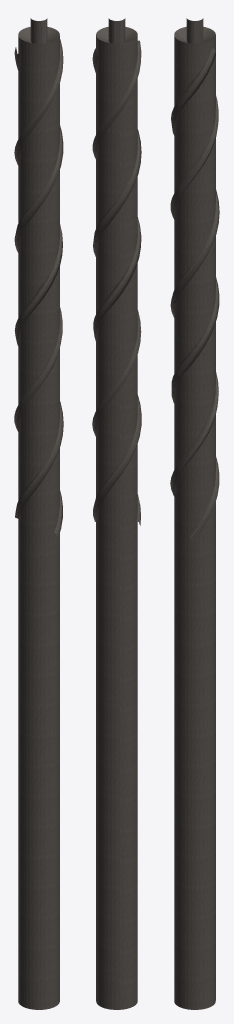
File: Piippu150.gltf
3 views of the same model, side by side, from view 1: azimuth 30°, elevation 25°; view 2: azimuth 210°, elevation 25°; view 3: azimuth 330°, elevation 25° (orthographic).
Visible parts, largest first — view 1: Cylinder, Spiral.001; view 2: Cylinder, Spiral.001; view 3: Cylinder, Spiral.001.
Boxes of the visible parts, x1=… form: Cylinder: x1=18, y1=18, x2=59, y2=1009; Spiral.001: x1=14, y1=39, x2=63, y2=537; Cylinder: x1=96, y1=18, x2=137, y2=1009; Spiral.001: x1=92, y1=40, x2=141, y2=525; Cylinder: x1=174, y1=18, x2=215, y2=1009; Spiral.001: x1=170, y1=48, x2=219, y2=542.
Bounding box in the file's own units: 6.8 × 150 × 6.81.
